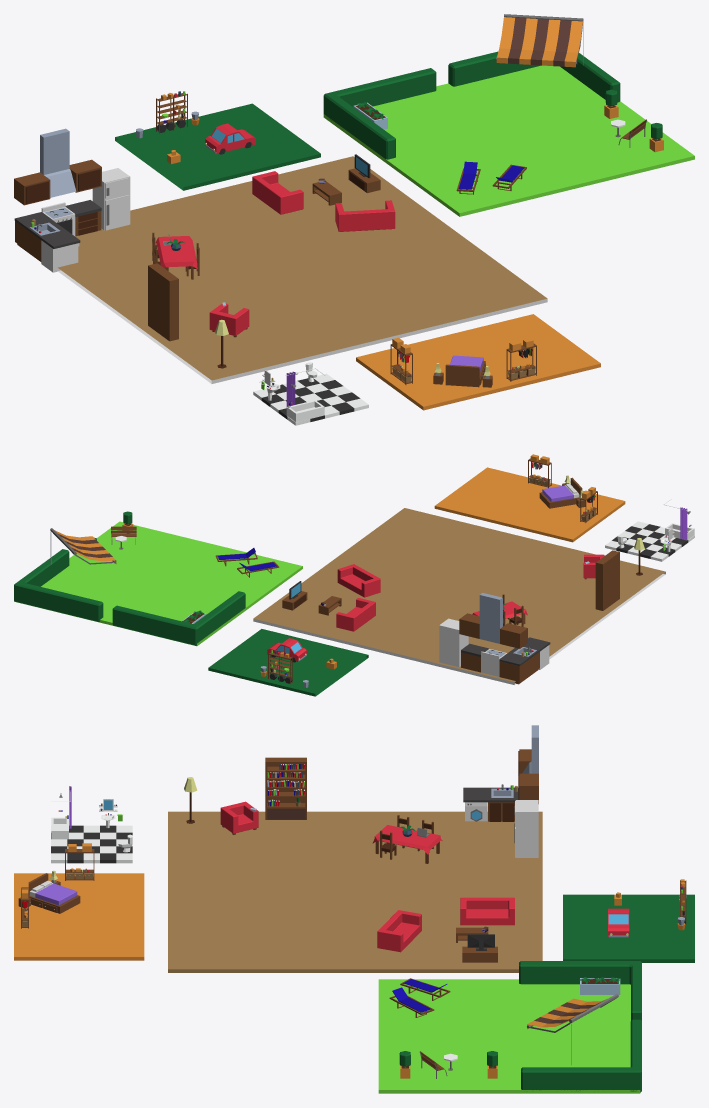
Rendered from HOUSE_LOW_POLY_WIP.gltf.
3 renders of one model, top to bottom at view 1: azimuth 30°, elevation 25°; view 2: azimuth 150°, elevation 25°; view 3: azimuth 270°, elevation 25°, orthographic. The views are drawn at different scales.
Parts seen in each view (by area): view 1: livingroom_floor, garden_floor, bedroomfloor, kitchenstuff, garage_floor, garden, garden_shade, WC_floor, books, dining_table, bed, couch (+9 smaller); view 2: livingroom_floor, garden_floor, bedroomfloor, kitchenstuff, garden, garage_floor, WC_floor, books, garden_shade, couch.001, bed, couch (+8 smaller); view 3: livingroom_floor, garden_floor, bedroomfloor, garage_floor, garden, kitchenstuff, WC_floor, books, dining_table, couch, bed, couch.001 (+8 smaller).
Part boxes in pixels (x1,y1,x2,y2): livingroom_floor: (58, 156, 547, 383); garden_floor: (323, 65, 694, 216); bedroomfloor: (356, 314, 600, 410); kitchenstuff: (14, 128, 130, 272); garage_floor: (115, 103, 320, 190); garden: (323, 51, 620, 159); garden_shade: (496, 14, 583, 67); WC_floor: (253, 370, 368, 425); books: (148, 263, 178, 341); dining_table: (152, 232, 199, 279); bed: (433, 355, 492, 387); couch: (252, 171, 303, 214); livingroom_floor: (253, 508, 665, 684); garden_floor: (14, 521, 302, 646); bedroomfloor: (434, 467, 625, 542); kitchenstuff: (439, 593, 550, 684); garden: (14, 549, 245, 645); garage_floor: (208, 629, 368, 696); WC_floor: (605, 521, 694, 561); books: (595, 550, 619, 610); garden_shade: (50, 528, 116, 564); couch.001: (337, 564, 380, 597); bed: (539, 475, 585, 508); couch: (336, 598, 375, 631); livingroom_floor: (168, 811, 542, 972); garden_floor: (378, 979, 640, 1093); bedroomfloor: (14, 873, 144, 960); garage_floor: (563, 894, 694, 962); garden: (519, 961, 641, 1092); kitchenstuff: (463, 725, 538, 857); WC_floor: (51, 799, 132, 863); books: (265, 757, 306, 819); dining_table: (372, 815, 442, 863); couch: (460, 897, 514, 925); bed: (18, 870, 80, 913); couch.001: (377, 910, 421, 952).
Size of the model in its own units: 56.67 by 9.61 by 58.04.
